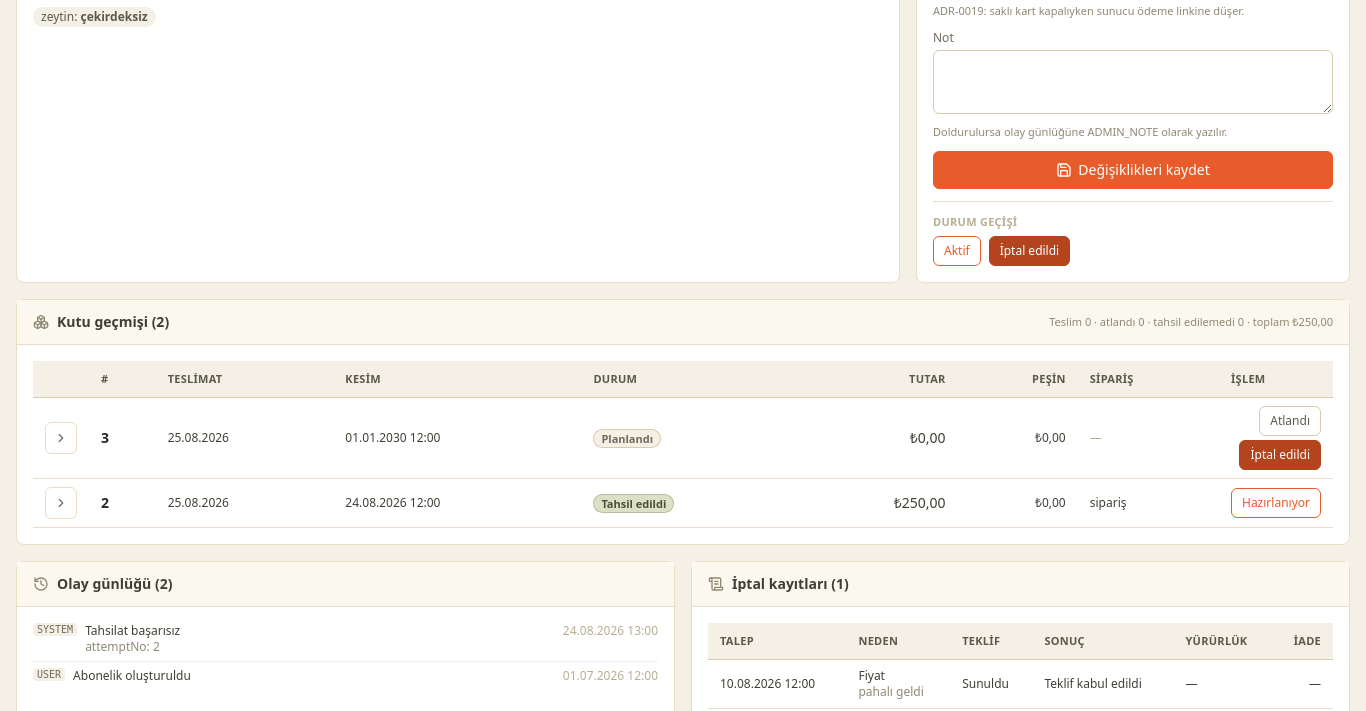
AdminAbonelikDetayPage (ekran 19 detay) › kutu satırı açılınca içerik (kaynak rozetleriyle) listelenir
The image size is (1366, 711).
(page scrolled)
Check: the heading "Kutu geçmişi (2)" is shown, box [57,312,169,332]
Click the button named "#2 içeriğini aç".
click(61, 503)  # box [45,487,77,519]
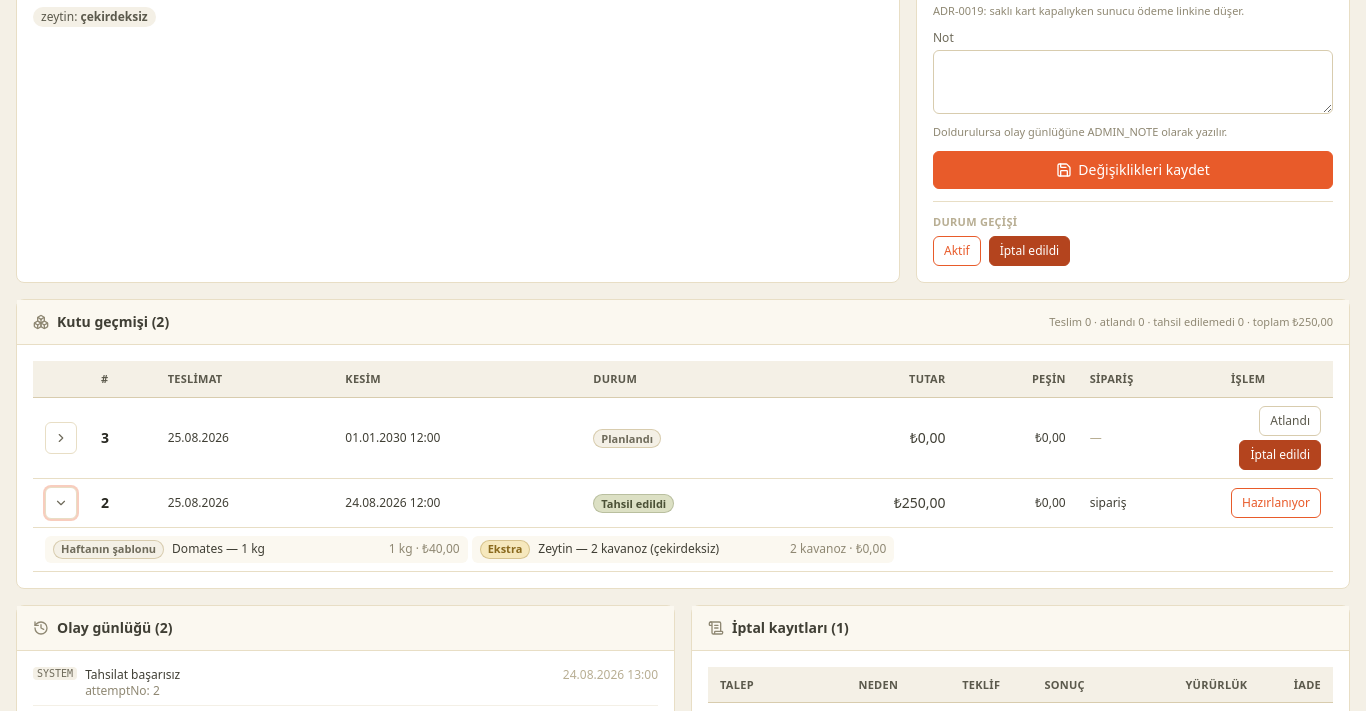
Check: the text "Domates — 1 kg" is shown, box [172,540,265,557]
Check: the text "Zeytin — 2 kavanoz (çekirdeksiz)" is shown, box [538,540,719,557]
Check: the text "Ekstra" is shown, box [480,540,530,559]
